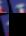potion: (9, 0, 26, 13), (0, 13, 9, 36), (0, 0, 9, 13)
